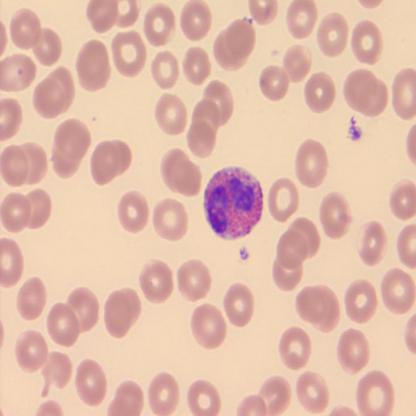Eosinophil: (204, 164, 263, 240)
